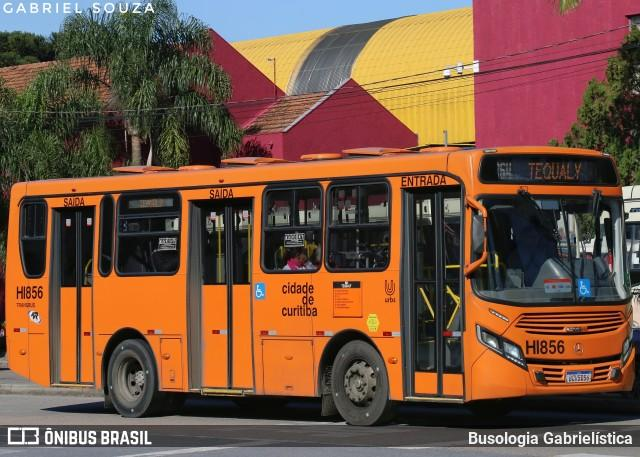TEQUALY: (519, 159, 589, 184)
